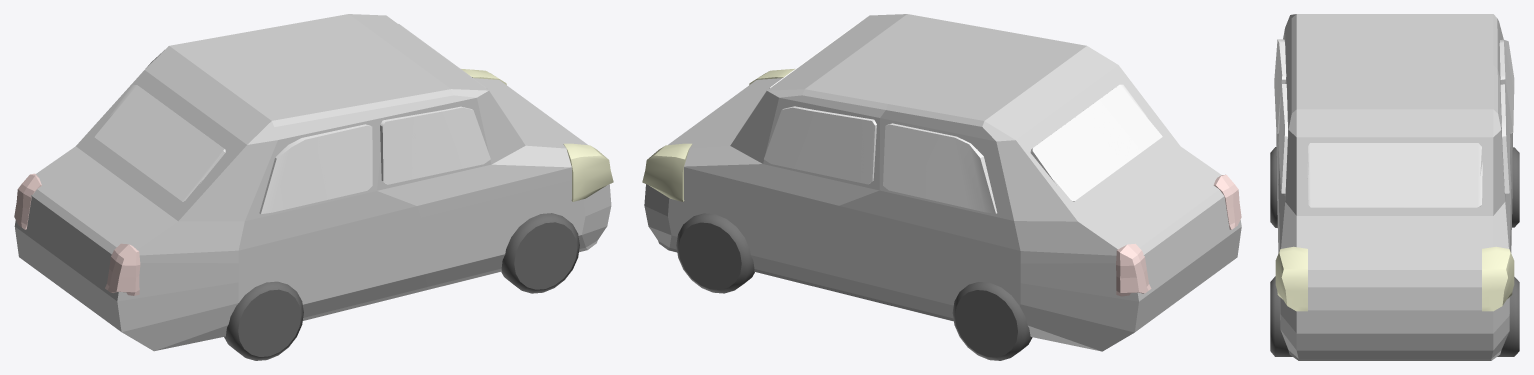
Rendered from CarroBlanco.fbx.
3 renders of one model, left to right at view 1: azimuth 30°, elevation 25°; view 2: azimuth 150°, elevation 25°; view 3: azimuth 270°, elevation 25°, orthographic. The views are drawn at different scales.
Parts seen in each view (by area): view 1: pCube1, pCube10, pCube7, pCube8, pCylinder1, pCylinder2, pCube11, pCube9; view 2: pCube1, pCube10, pCube4, pCube3, pCylinder3, pCylinder4, pCube11, pCube9; view 3: pCube1, pCube6, pCube9, pCube4, pCylinder1, pCylinder3, pCube8, pCube3, pCube7, pCylinder4, pCylinder2.
Part boxes in pixels (bbox=[...]): pCube1: bbox=[14, 14, 611, 351]; pCube10: bbox=[94, 84, 225, 201]; pCube7: bbox=[259, 124, 372, 213]; pCube8: bbox=[380, 106, 490, 184]; pCylinder1: bbox=[501, 213, 579, 293]; pCylinder2: bbox=[224, 281, 303, 360]; pCube11: bbox=[14, 173, 140, 295]; pCube9: bbox=[461, 69, 613, 201]; pCube1: bbox=[644, 14, 1241, 351]; pCube10: bbox=[1030, 84, 1162, 201]; pCube4: bbox=[883, 123, 997, 213]; pCube3: bbox=[764, 106, 876, 184]; pCylinder3: bbox=[676, 213, 754, 293]; pCylinder4: bbox=[952, 282, 1032, 360]; pCube11: bbox=[1116, 174, 1241, 296]; pCube9: bbox=[642, 68, 794, 201]; pCube1: bbox=[1276, 14, 1512, 360]; pCube6: bbox=[1307, 143, 1482, 207]; pCube9: bbox=[1275, 246, 1514, 311]; pCube4: bbox=[1499, 39, 1514, 133]; pCylinder1: bbox=[1270, 276, 1292, 356]; pCylinder3: bbox=[1497, 277, 1519, 356]; pCube8: bbox=[1278, 84, 1287, 193]; pCube3: bbox=[1500, 84, 1510, 193]; pCube7: bbox=[1274, 39, 1286, 133]; pCylinder4: bbox=[1512, 147, 1519, 227]; pCylinder2: bbox=[1270, 147, 1277, 227].
Size of the model in its own units: 24.41 by 10.7 by 11.09.
